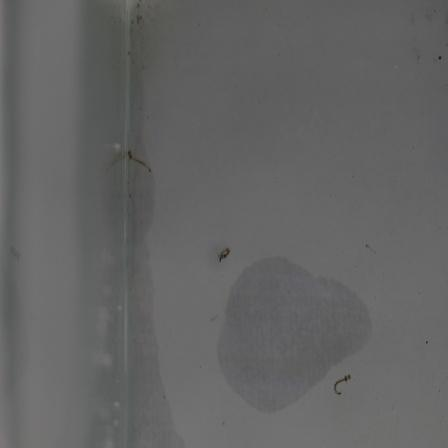Jentik-Nyamuk: (122, 146, 155, 178), (328, 369, 353, 399), (214, 244, 235, 264)
